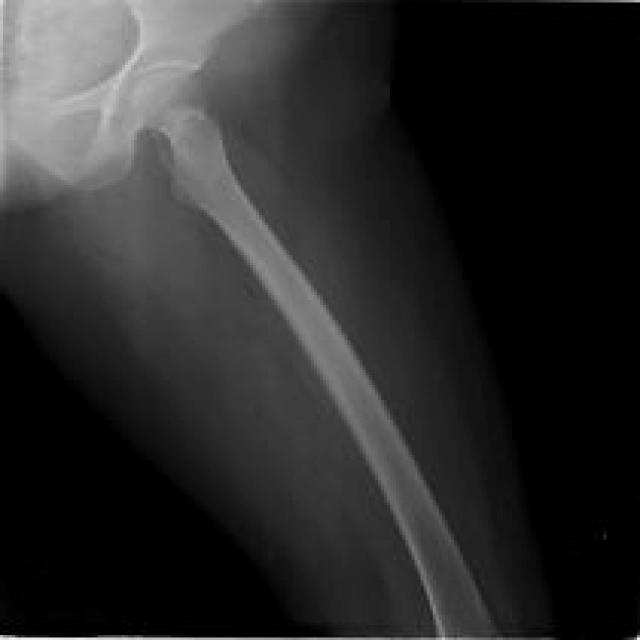normal: (9, 0, 500, 633)
